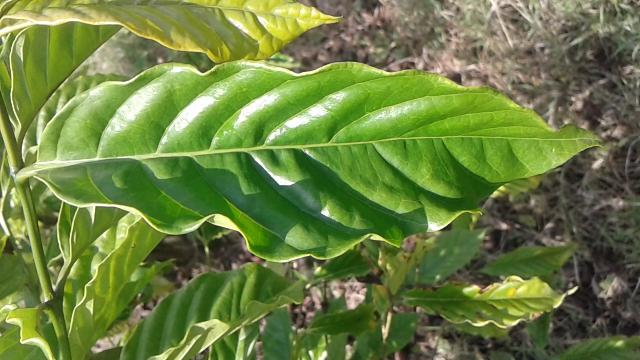healthy: (32, 57, 615, 264)
